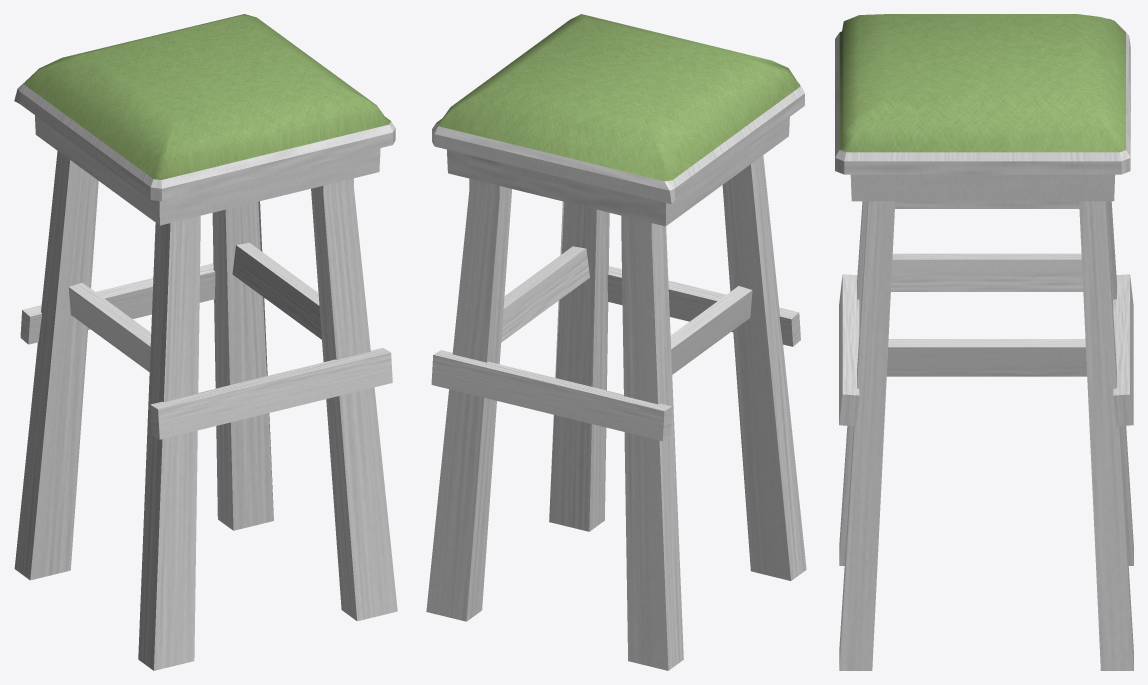
File: Barstool_E_2.FBX
3 renders of one model, left to right at view 1: azimuth 30°, elevation 25°; view 2: azimuth 150°, elevation 25°; view 3: azimuth 270°, elevation 25°, orthographic. The views are drawn at different scales.
Visible parts, largest first — view 1: Bar_Stool; view 2: Bar_Stool; view 3: Bar_Stool.
Part boxes in pixels (x1=…): Bar_Stool: x1=14, y1=14, x2=397, y2=670; Bar_Stool: x1=426, y1=14, x2=806, y2=670; Bar_Stool: x1=835, y1=14, x2=1133, y2=670.
Size of the model in its own units: 85.32 by 174 by 84.9.
